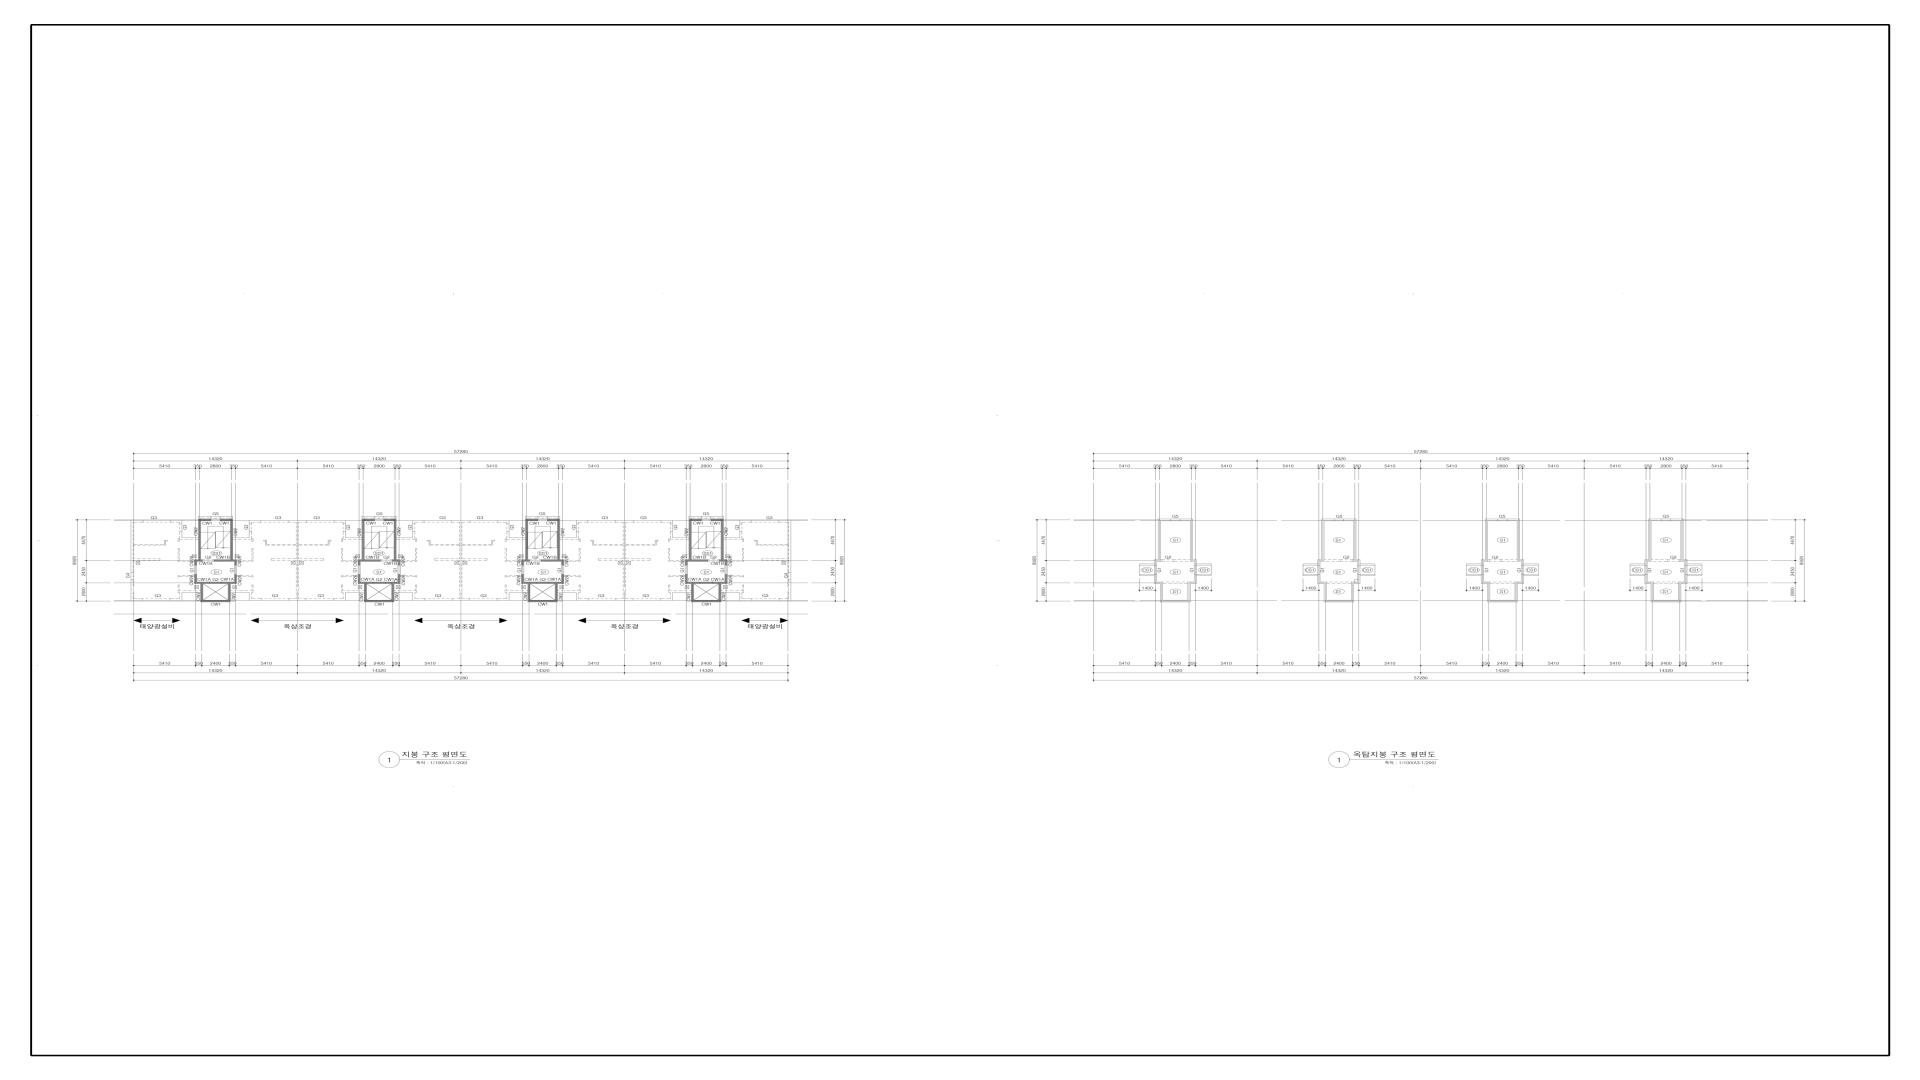wall: (358, 574, 373, 602), (194, 574, 209, 602), (222, 574, 237, 602), (385, 574, 400, 602), (522, 574, 537, 602), (685, 574, 700, 602), (712, 574, 727, 602), (549, 574, 564, 602), (230, 519, 237, 574), (721, 519, 728, 574), (685, 519, 692, 574), (557, 519, 564, 574), (1517, 519, 1524, 574), (1190, 519, 1197, 574), (1481, 519, 1488, 574), (394, 519, 400, 574), (358, 519, 364, 574), (522, 519, 528, 574), (1354, 519, 1360, 574), (1318, 519, 1324, 574), (1681, 519, 1687, 574), (1645, 519, 1651, 574), (1318, 574, 1327, 602), (1154, 574, 1163, 602), (1188, 574, 1197, 602), (1351, 574, 1360, 602), (1481, 574, 1490, 602), (1515, 574, 1524, 602), (1645, 574, 1654, 602), (1679, 574, 1687, 602), (194, 560, 203, 574), (198, 519, 201, 560), (1158, 519, 1161, 560), (1154, 560, 1162, 574), (367, 600, 392, 602), (530, 600, 555, 602), (694, 600, 719, 602), (203, 600, 228, 602), (1326, 600, 1351, 602), (1490, 600, 1515, 602), (1654, 600, 1679, 602), (1163, 600, 1188, 602), (364, 560, 381, 562), (214, 560, 230, 562), (541, 560, 557, 562), (692, 560, 708, 562), (1139, 574, 1154, 576), (1303, 574, 1318, 576), (1360, 574, 1375, 576), (1466, 574, 1481, 576), (1524, 574, 1539, 576), (1630, 574, 1645, 576), (1687, 574, 1702, 576), (1197, 574, 1211, 576), (209, 582, 222, 584), (373, 582, 385, 584), (537, 582, 549, 584), (700, 582, 712, 584), (364, 519, 375, 521), (691, 519, 702, 521), (201, 519, 211, 521), (220, 519, 230, 521), (384, 519, 394, 521), (528, 519, 538, 521), (547, 519, 557, 521), (711, 519, 721, 521), (1507, 519, 1517, 521), (1651, 519, 1661, 521), (1671, 519, 1681, 521), (1161, 519, 1171, 521), (1180, 519, 1190, 521), (1324, 519, 1334, 521), (1344, 519, 1354, 521), (1488, 519, 1498, 521), (1334, 519, 1344, 521), (1661, 519, 1671, 521), (1171, 519, 1180, 521), (1498, 519, 1507, 521), (1139, 564, 1154, 565), (1196, 564, 1211, 565), (1303, 564, 1318, 565), (1360, 564, 1375, 565), (1466, 564, 1481, 565), (1524, 564, 1539, 565), (1630, 564, 1645, 565), (1687, 564, 1702, 565), (392, 560, 394, 562), (528, 560, 530, 562), (719, 560, 721, 562), (1679, 560, 1681, 562), (1352, 560, 1354, 562), (1488, 560, 1489, 562)
